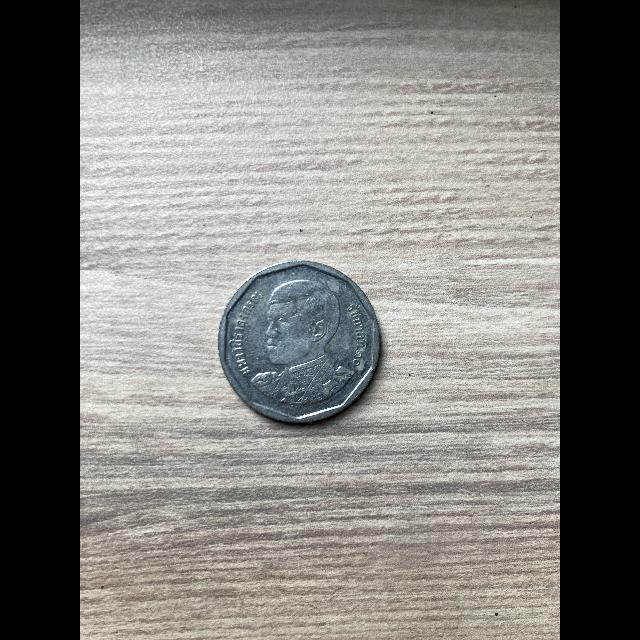5 Bath: (218, 258, 387, 430)
